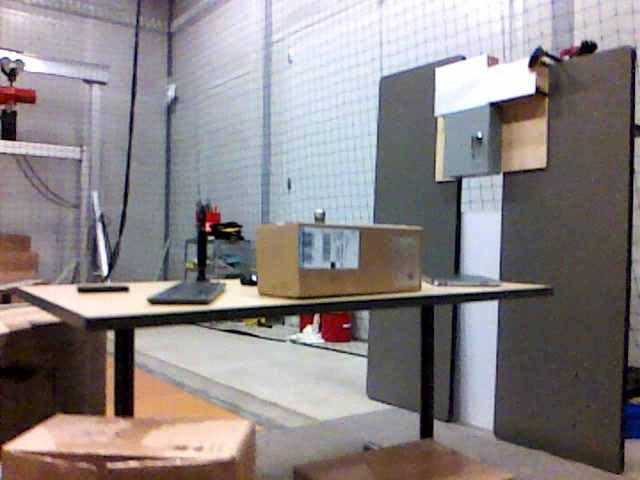box: (1, 303, 106, 480), (2, 415, 257, 480), (256, 220, 421, 298), (295, 438, 510, 480)
